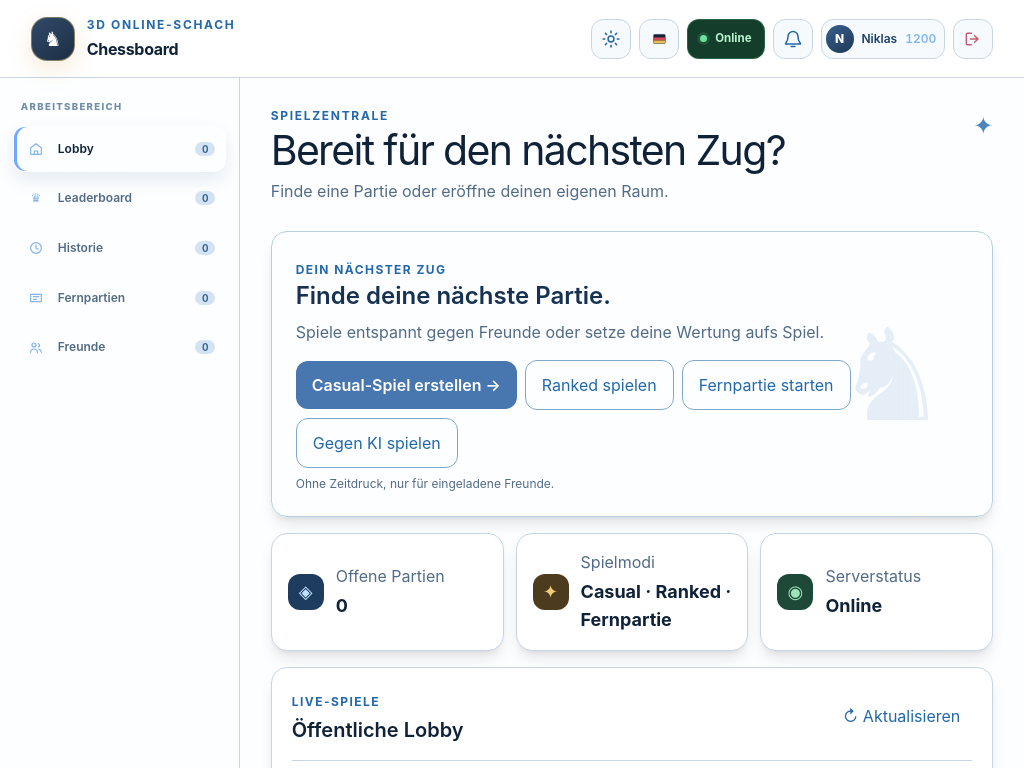
Test: App › opens a newly created casual game
Check: the heading "Bereit für den nächsten Zug?" is shown, box x1=271 y1=130 x2=785 y2=171
Click the button "Casual-Spiel erstellen →".
click(406, 385)  # box x1=296 y1=361 x2=517 y2=409
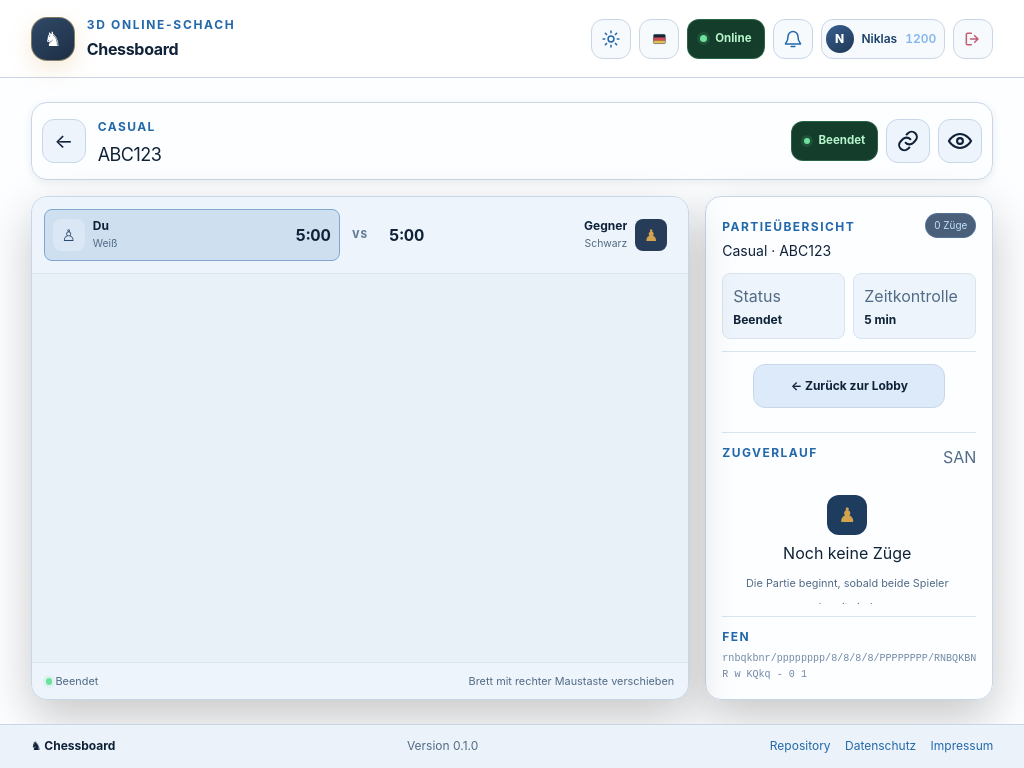
Check: the heading "ABC123" is shown, box x1=98 y1=141 x2=161 y2=169
Check: the text "Beendet" is shown, box x1=791 y1=121 x2=878 y2=161
